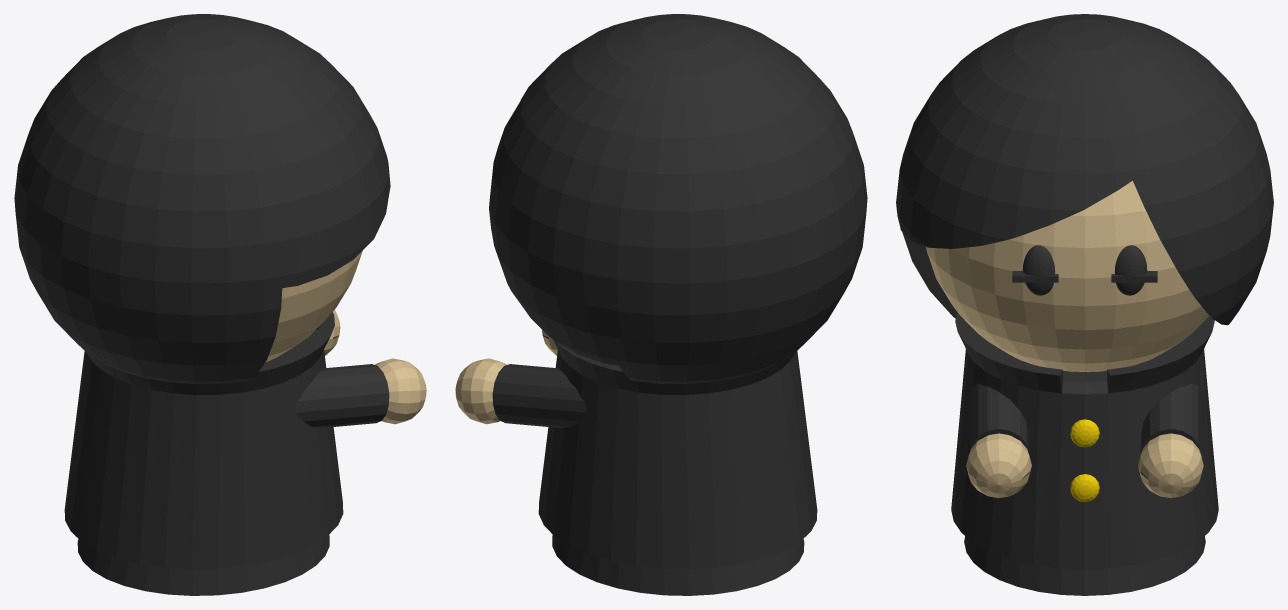
The model's file is edBoy0214.fbx.
3 views of the same model, side by side, from view 1: azimuth 30°, elevation 25°; view 2: azimuth 150°, elevation 25°; view 3: azimuth 270°, elevation 25° (orthographic).
Parts seen in each view (by area): view 1: edBoy_hair, edBoy_body, edBoy_hand, edBoy_face; view 2: edBoy_hair, edBoy_body, edBoy_hand; view 3: edBoy_hair, edBoy_body, edBoy_face, edBoy_hand, edBoy_eye_normal, edBoy_botton, edBoy_eye_sleep, edBoy_eye_interest.
Part boxes in pixels (x1,y1,x2,y2): edBoy_hair: (14,14,390,384); edBoy_body: (64,312,343,595); edBoy_hand: (294,310,426,427); edBoy_face: (265,250,362,362); edBoy_hair: (489,14,867,384); edBoy_body: (538,340,817,595); edBoy_hand: (455,330,587,427); edBoy_hair: (896,14,1273,325); edBoy_body: (951,314,1218,595); edBoy_face: (926,181,1209,371); edBoy_hand: (966,383,1203,498); edBoy_eye_normal: (1022,245,1147,295); edBoy_botton: (1070,419,1099,501); edBoy_eye_sleep: (1012,271,1157,282); edBoy_eye_interest: (1023,259,1146,295).
Bounding box in the file's own units: 238 × 343 × 230.
